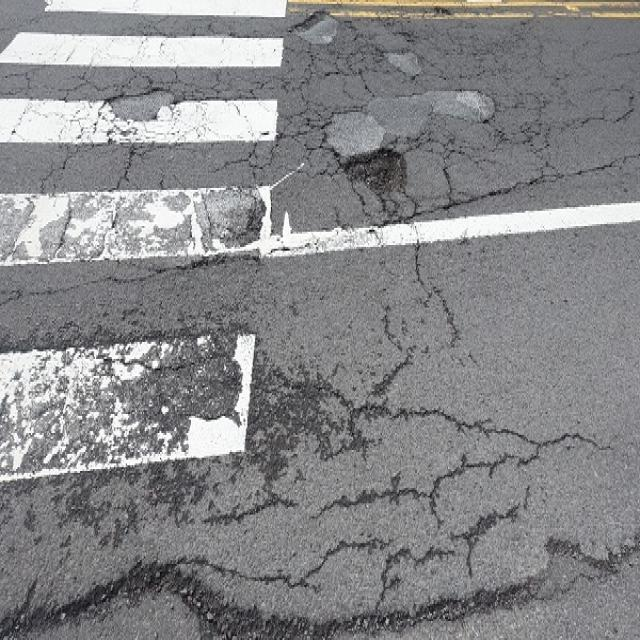pothole: (342, 117, 416, 220)
